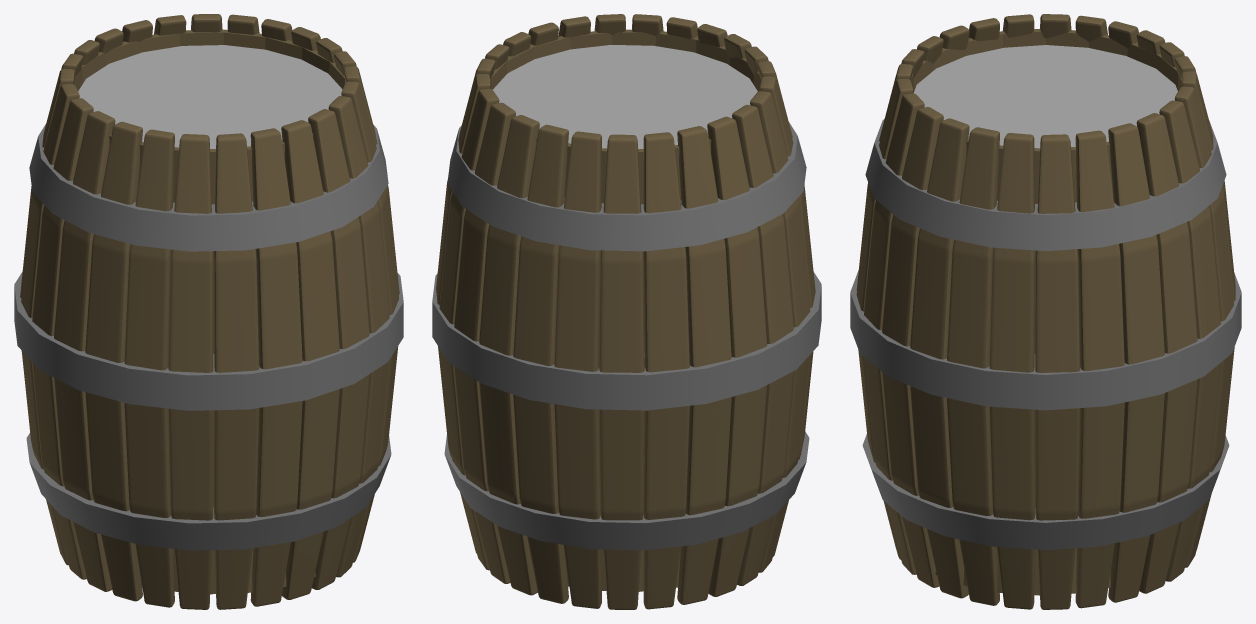
File: fass.fbx
3 renders of one model, left to right at view 1: azimuth 30°, elevation 25°; view 2: azimuth 150°, elevation 25°; view 3: azimuth 270°, elevation 25°, orthographic.
Parts seen in each view (by area): view 1: pCube62, pCylinder5; view 2: pCube62, pCylinder5; view 3: pCube62, pCylinder5.
Boxes of the visible parts, x1,y1,x2,y2 form: pCube62: (14, 14, 403, 609); pCylinder5: (78, 45, 342, 148); pCube62: (432, 14, 821, 609); pCylinder5: (493, 45, 757, 148); pCube62: (850, 14, 1241, 609); pCylinder5: (914, 45, 1177, 148).
Size of the model in its own units: 2.13 by 2.83 by 2.13.
